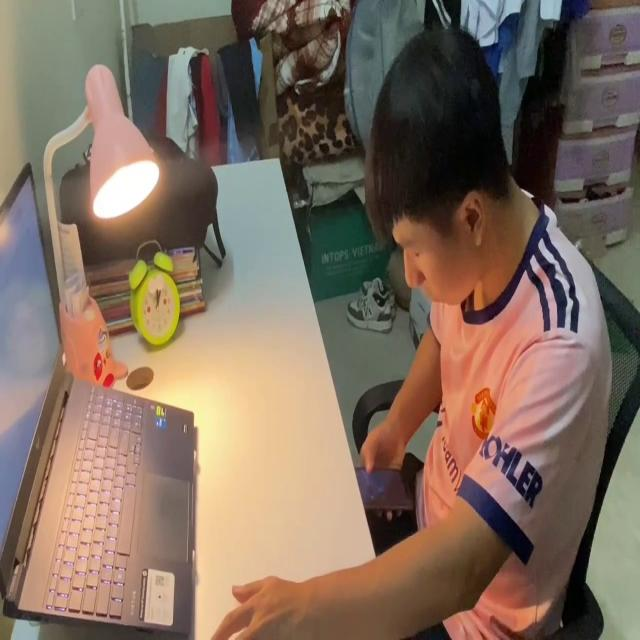laptop: (0, 150, 200, 640)
phone: (351, 452, 414, 520)
student: (208, 19, 614, 640)
